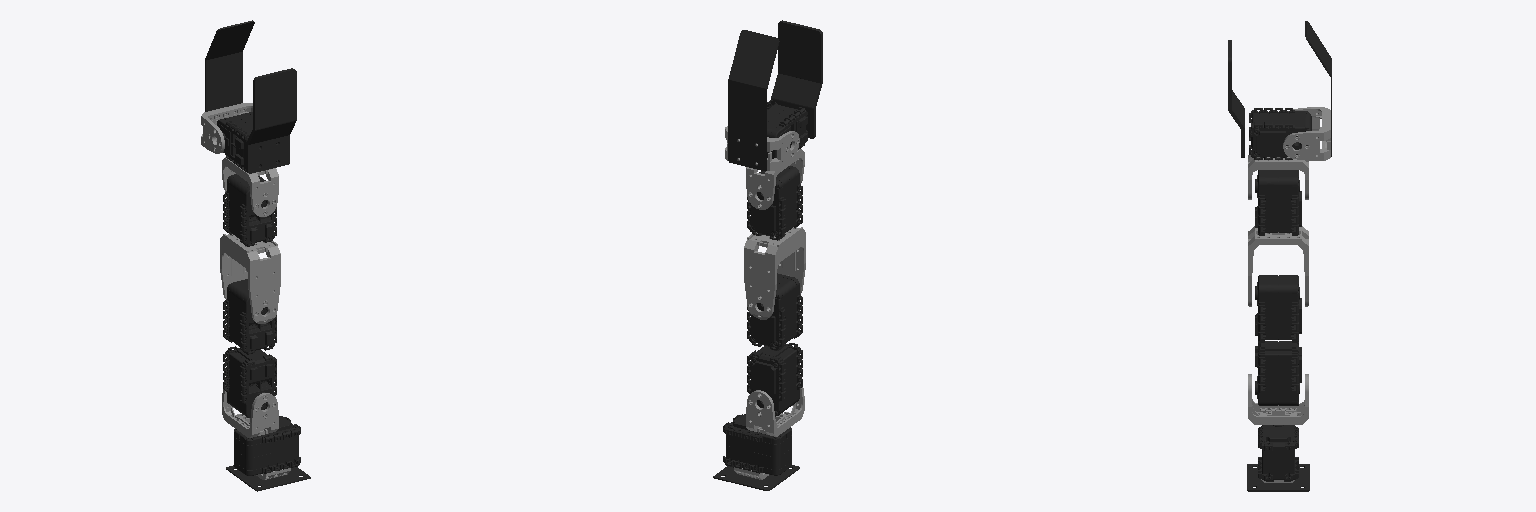
robot.urdf — crane_plus_arm:
<?xml version="1.0" ?>
<!-- =================================================================================== -->
<!-- |    This document was autogenerated by xacro from src/crane_plus_arm/crane_plus_simulation/urdf/simulated_crane_plus.urdf.xacro | -->
<!-- |    EDITING THIS FILE BY HAND IS NOT RECOMMENDED                                 | -->
<!-- =================================================================================== -->
<robot name="crane_plus_arm" xmlns:controller="http://playerstage.sourceforge.net/gazebo/xmlschema/#controller" xmlns:interface="http://playerstage.sourceforge.net/gazebo/xmlschema/#interface" xmlns:sensor="http://playerstage.sourceforge.net/gazebo/xmlschema/#sensor" xmlns:xacro="http://ros.org/wiki/xacro">
  <material name="grey">
    <color rgba="0.6 0.6 0.6 1.0"/>
  </material>
  <material name="black">
    <color rgba="0.2 0.2 0.2 1.0"/>
  </material>
  <!-- Link to provide the location reference for the arm -->
  <link name="world"/>
  <link name="crane_plus_base_link"/>
  <joint name="crane_plus_base_joint" type="fixed">
    <origin xyz="0 0 0"/>
    <parent link="world"/>
    <child link="crane_plus_base_link"/>
  </joint>
  <joint name="crane_plus_mounting_plate_joint" type="fixed">
    <origin rpy="0 0 0" xyz="0 0 0"/>
    <parent link="crane_plus_base_link"/>
    <child link="crane_plus_mounting_plate_link"/>
  </joint>
  <link name="crane_plus_mounting_plate_link">
    <inertial>
      <mass value="0.02"/>
      <origin rpy="0 0 0" xyz="0 0 0.0005"/>
      <inertia ixx="4.1683e-6" ixy="0.0" ixz="0.0" iyy="8.33e-6" iyz="0.0" izz="4.1683e-6"/>
    </inertial>
    <visual>
      <origin rpy="0 0 0" xyz="-0.025 -0.025 0"/>
      <geometry>
        <mesh filename="package://crane_plus_description/meshes/mount.stl" scale="1 1 1"/>
      </geometry>
      <material name="black"/>
    </visual>
    <collision>
      <origin rpy="0 0 0" xyz="0 0 0.0005"/>
      <geometry>
        <box size="0.05 0.05 0.001"/>
      </geometry>
    </collision>
  </link>
  <joint name="crane_plus_base_bracket_joint" type="fixed">
    <origin rpy="0 0 0" xyz="0 0 0.001"/>
    <parent link="crane_plus_mounting_plate_link"/>
    <child link="crane_plus_base_bracket_link"/>
  </joint>
  <link name="crane_plus_base_bracket_link">
    <inertial>
      <mass value="0.005"/>
      <origin rpy="0 0 0" xyz="0.0 0.0 0.004"/>
      <inertia ixx="4.53e-7" ixy="0.0" ixz="0.0" iyy="6.283e-7" iyz="0.0" izz="2.283e-7"/>
    </inertial>
    <visual>
      <origin rpy="-1.570795 0 0" xyz="0 0 0"/>
      <geometry>
        <mesh filename="package://crane_plus_description/meshes/f53.stl" scale="0.01 0.01 0.01"/>
      </geometry>
      <material name="grey"/>
    </visual>
    <collision>
      <origin rpy="0 0 0" xyz="0.0 0.0 0.004"/>
      <geometry>
        <box size="0.022 0.032 0.008"/>
      </geometry>
    </collision>
  </link>
  <joint name="crane_plus_shoulder_servo_joint" type="fixed">
    <origin rpy="0 0 0" xyz="-0.0028 0 0.023"/>
    <parent link="crane_plus_base_bracket_link"/>
    <child link="crane_plus_shoulder_servo_link"/>
  </joint>
  <link name="crane_plus_shoulder_servo_link">
    <inertial>
      <mass value="0.0564"/>
      <origin rpy="0 0 0" xyz="0.0015 0 0"/>
      <inertia ixx="1.16e-5" ixy="0.0" ixz="0.0" iyy="1.656e-50" iyz="0.0" izz="1.854e-5"/>
    </inertial>
    <visual>
      <origin rpy="-1.570795 0 0" xyz="0 0 0"/>
      <geometry>
        <mesh filename="package://crane_plus_description/meshes/ax12_box.stl" scale="0.001 0.001 0.001"/>
      </geometry>
      <material name="black"/>
    </visual>
    <collision>
      <origin rpy="0 0 0" xyz="0.0015 0 0"/>
      <geometry>
        <box size="0.05 0.032 0.038"/>
      </geometry>
    </collision>
  </link>
  <joint name="crane_plus_shoulder_bracket_rev_joint" type="revolute">
    <origin rpy="0 0 0" xyz="-0.0135 0 0.021"/>
    <axis xyz="0 0 1"/>
    <limit effort="30" lower="-2.617" upper="2.617" velocity="1.571"/>
    <parent link="crane_plus_shoulder_servo_link"/>
    <child link="crane_plus_shoulder_bracket_rev_link"/>
  </joint>
  <link name="crane_plus_shoulder_bracket_rev_link">
    <inertial>
      <mass value="0.01"/>
      <origin rpy="0 0 0" xyz="0 0 0.01875"/>
      <!-- Full height: (3.1320833333333333e-06, 2.481041666666667e-06, 1.6927083333333333e-06) -->
      <!-- Half height: (2.253177083333333e-06, 2.481041666666667e-06, 8.138020833333333e-07) -->
      <inertia ixx="2.253e-6" ixy="0.0" ixz="0.0" iyy="2.481e-6" iyz="0.0" izz="8.138e-7"/>
    </inertial>
    <visual>
      <origin rpy="1.570795 0 0" xyz="0 0 0.0265"/>
      <geometry>
        <mesh filename="package://crane_plus_description/meshes/f2.stl" scale="0.001 0.001 0.001"/>
      </geometry>
      <material name="grey"/>
    </visual>
    <collision>
      <origin rpy="0 0 0" xyz="0 0 0.01875"/>
      <geometry>
        <box size="0.025 0.0485 0.0375"/>
      </geometry>
    </collision>
  </link>
  <joint name="crane_plus_upper_arm_servo_joint" type="revolute">
    <origin rpy="-1.570795 -1.570795 0" xyz="0 0 0.0265"/>
    <axis xyz="0 0 1"/>
    <limit effort="30" lower="-2.617" upper="2.617" velocity="1.571"/>
    <parent link="crane_plus_shoulder_bracket_rev_link"/>
    <child link="crane_plus_upper_arm_servo_link"/>
  </joint>
  <link name="crane_plus_upper_arm_servo_link">
    <inertial>
      <mass value="0.0564"/>
      <origin rpy="0 0 0" xyz="0.0135 0 0"/>
      <inertia ixx="1.16e-5" ixy="0.0" ixz="0.0" iyy="1.656e-5" iyz="0.0" izz="1.854e-5"/>
    </inertial>
    <visual>
      <origin rpy="-1.570795 0 0" xyz="0.012 0 0"/>
      <geometry>
        <mesh filename="package://crane_plus_description/meshes/ax12_box.stl" scale="0.001 0.001 0.001"/>
      </geometry>
      <material name="black"/>
    </visual>
    <collision>
      <origin rpy="0 0 0" xyz="0.0135 0 0"/>
      <geometry>
        <box size="0.05 0.032 0.038"/>
      </geometry>
    </collision>
  </link>
  <joint name="crane_plus_upper_arm_upper_joiner_joint" type="fixed">
    <origin rpy="-1.570795 0 1.570795" xyz="0.0415 0 0"/>
    <parent link="crane_plus_upper_arm_servo_link"/>
    <child link="crane_plus_upper_arm_upper_joiner_link"/>
  </joint>
  <link name="crane_plus_upper_arm_upper_joiner_link">
    <inertial>
      <mass value="0.005"/>
      <origin rpy="0 0 0" xyz="0.0 0.0 0.0045"/>
      <inertia ixx="6.354e-7" ixy="0.0" ixz="0.0" iyy="8.621e-7" iyz="0.0" izz="2.942e-7"/>
    </inertial>
    <visual>
      <origin rpy="1.570795 0 3.14159" xyz="0 0 0"/>
      <geometry>
        <mesh filename="package://crane_plus_description/meshes/f3.stl" scale="0.001 0.001 0.001"/>
      </geometry>
      <material name="grey"/>
    </visual>
    <collision>
      <origin rpy="0 0 0" xyz="0.0 0.0 0.0045"/>
      <geometry>
        <box size="0.025 0.038 0.009"/>
      </geometry>
    </collision>
  </link>
  <joint name="crane_plus_upper_arm_lower_joiner_joint" type="fixed">
    <origin rpy="3.14159 0 0" xyz="0 0 0"/>
    <parent link="crane_plus_upper_arm_upper_joiner_link"/>
    <child link="crane_plus_upper_arm_lower_joiner_link"/>
  </joint>
  <link name="crane_plus_upper_arm_lower_joiner_link">
    <inertial>
      <mass value="0.005"/>
      <origin rpy="0 0 0" xyz="0.0 0.0 0.0045"/>
      <inertia ixx="6.354e-7" ixy="0.0" ixz="0.0" iyy="8.621e-7" iyz="0.0" izz="2.942e-7"/>
    </inertial>
    <visual>
      <origin rpy="1.570795 0 3.14159" xyz="0 0 0"/>
      <geometry>
        <mesh filename="package://crane_plus_description/meshes/f3.stl" scale="0.001 0.001 0.001"/>
      </geometry>
      <material name="grey"/>
    </visual>
    <collision>
      <origin rpy="0 0 0" xyz="0.0 0.0 0.0045"/>
      <geometry>
        <box size="0.025 0.038 0.009"/>
      </geometry>
    </collision>
  </link>
  <joint name="crane_plus_lower_arm_servo_joint" type="fixed">
    <origin rpy="0 1.570795 1.570795" xyz="0 0 0.0295"/>
    <parent link="crane_plus_upper_arm_lower_joiner_link"/>
    <child link="crane_plus_lower_arm_servo_link"/>
  </joint>
  <link name="crane_plus_lower_arm_servo_link">
    <inertial>
      <mass value="0.0564"/>
      <origin rpy="0 0 0" xyz="0.0015 0 0"/>
      <inertia ixx="1.16e-5" ixy="0.0" ixz="0.0" iyy="1.656e-50" iyz="0.0" izz="1.854e-5"/>
    </inertial>
    <visual>
      <origin rpy="-1.570795 0 0" xyz="0 0 0"/>
      <geometry>
        <mesh filename="package://crane_plus_description/meshes/ax12_box.stl" scale="0.001 0.001 0.001"/>
      </geometry>
      <material name="black"/>
    </visual>
    <collision>
      <origin rpy="0 0 0" xyz="0.0015 0 0"/>
      <geometry>
        <box size="0.05 0.032 0.038"/>
      </geometry>
    </collision>
  </link>
  <joint name="crane_plus_lower_arm_bracket_joint" type="revolute">
    <origin rpy="1.570795 0 1.570795" xyz="-0.012 0 0"/>
    <axis xyz="0 1 0"/>
    <limit effort="30" lower="-2.617" upper="2.617" velocity="1.571"/>
    <parent link="crane_plus_lower_arm_servo_link"/>
    <child link="crane_plus_lower_arm_bracket_link"/>
  </joint>
  <link name="crane_plus_lower_arm_bracket_link">
    <inertial>
      <mass value="0.015"/>
      <origin rpy="0 0 0" xyz="0 0 -0.0215"/>
      <!-- Full height: (8.2215625e-06, 3.9203124999999996e-06, 6.2612499999999996e-06) -->
      <!-- Half height: (4.2606249999999995e-06, 3.9203124999999996e-06, 2.3003125e-06) -->
      <inertia ixx="4.261e-6" ixy="0.0" ixz="0.0" iyy="3.921e-6" iyz="0.0" izz="2.3e-6"/>
    </inertial>
    <visual>
      <origin rpy="1.570795 0 0" xyz="0 0 0"/>
      <geometry>
        <mesh filename="package://crane_plus_description/meshes/f4.stl" scale="0.001 0.001 0.001"/>
      </geometry>
      <material name="grey"/>
    </visual>
    <collision>
      <!-- 0.0015 is for the nub height which is not included in
             F4_AXLE_HEIGHT -->
      <origin rpy="0 0 0" xyz="0 0 -0.0215"/>
      <geometry>
        <box size="0.028 0.0485 0.065"/>
      </geometry>
    </collision>
  </link>
  <joint name="crane_plus_lower_arm_joiner_joint" type="fixed">
    <origin rpy="0 3.14159 0" xyz="0 0 -0.0525"/>
    <parent link="crane_plus_lower_arm_bracket_link"/>
    <child link="crane_plus_lower_arm_joiner_link"/>
  </joint>
  <link name="crane_plus_lower_arm_joiner_link">
    <inertial>
      <mass value="0.005"/>
      <origin rpy="0 0 0" xyz="0.0 0.0 0.0045"/>
      <inertia ixx="6.354e-7" ixy="0.0" ixz="0.0" iyy="8.621e-7" iyz="0.0" izz="2.942e-7"/>
    </inertial>
    <visual>
      <origin rpy="1.570795 0 3.14159" xyz="0 0 0"/>
      <geometry>
        <mesh filename="package://crane_plus_description/meshes/f3.stl" scale="0.001 0.001 0.001"/>
      </geometry>
      <material name="grey"/>
    </visual>
    <collision>
      <origin rpy="0 0 0" xyz="0.0 0.0 0.0045"/>
      <geometry>
        <box size="0.025 0.038 0.009"/>
      </geometry>
    </collision>
  </link>
  <joint name="crane_plus_wrist_servo_joint" type="fixed">
    <origin rpy="0 1.570795 1.570795" xyz="0 0 0.0295"/>
    <parent link="crane_plus_lower_arm_joiner_link"/>
    <child link="crane_plus_wrist_servo_link"/>
  </joint>
  <link name="crane_plus_wrist_servo_link">
    <inertial>
      <mass value="0.0564"/>
      <origin rpy="0 0 0" xyz="0.0015 0 0"/>
      <inertia ixx="1.16e-5" ixy="0.0" ixz="0.0" iyy="1.656e-50" iyz="0.0" izz="1.854e-5"/>
    </inertial>
    <visual>
      <origin rpy="-1.570795 0 0" xyz="0 0 0"/>
      <geometry>
        <mesh filename="package://crane_plus_description/meshes/ax12_box.stl" scale="0.001 0.001 0.001"/>
      </geometry>
      <material name="black"/>
    </visual>
    <collision>
      <origin rpy="0 0 0" xyz="0.0015 0 0"/>
      <geometry>
        <box size="0.05 0.032 0.038"/>
      </geometry>
    </collision>
  </link>
  <joint name="crane_plus_wrist_bracket_joint" type="revolute">
    <origin rpy="-1.570795 0 -1.570795" xyz="-0.012 0 0"/>
    <axis xyz="0 1 0"/>
    <limit effort="30" lower="-2.617" upper="2.617" velocity="1.571"/>
    <parent link="crane_plus_wrist_servo_link"/>
    <child link="crane_plus_wrist_bracket_link"/>
  </joint>
  <link name="crane_plus_wrist_bracket_link">
    <inertial>
      <mass value="0.01"/>
      <origin rpy="0 0 0" xyz="0 0 -0.00775"/>
      <!-- Full height: (3.1320833333333333e-06, 2.481041666666667e-06, 1.6927083333333333e-06) -->
      <!-- Half height: (2.253177083333333e-06, 2.481041666666667e-06, 8.138020833333333e-07) -->
      <inertia ixx="2.253e-6" ixy="0.0" ixz="0.0" iyy="2.481e-6" iyz="0.0" izz="8.138e-7"/>
    </inertial>
    <visual>
      <origin rpy="1.570795 0 0" xyz="0 0 0"/>
      <geometry>
        <mesh filename="package://crane_plus_description/meshes/f2.stl" scale="0.001 0.001 0.001"/>
      </geometry>
      <material name="grey"/>
    </visual>
    <collision>
      <origin rpy="0 0 0" xyz="0 0 -0.00775"/>
      <geometry>
        <box size="0.025 0.0485 0.0375"/>
      </geometry>
    </collision>
  </link>
  <joint name="crane_plus_wrist_joiner_joint" type="fixed">
    <origin rpy="0 3.14159 1.570795" xyz="0 0 -0.0265"/>
    <parent link="crane_plus_wrist_bracket_link"/>
    <child link="crane_plus_wrist_joiner_link"/>
  </joint>
  <link name="crane_plus_wrist_joiner_link">
    <inertial>
      <mass value="0.005"/>
      <origin rpy="0 0 0" xyz="0.0 0.0 0.0045"/>
      <inertia ixx="6.354e-7" ixy="0.0" ixz="0.0" iyy="8.621e-7" iyz="0.0" izz="2.942e-7"/>
    </inertial>
    <visual>
      <origin rpy="1.570795 0 3.14159" xyz="0 0 0"/>
      <geometry>
        <mesh filename="package://crane_plus_description/meshes/f3.stl" scale="0.001 0.001 0.001"/>
      </geometry>
      <material name="grey"/>
    </visual>
    <collision>
      <origin rpy="0 0 0" xyz="0.0 0.0 0.0045"/>
      <geometry>
        <box size="0.025 0.038 0.009"/>
      </geometry>
    </collision>
  </link>
  <joint name="crane_plus_gripper_servo_joint" type="fixed">
    <origin rpy="1.570795 3.14159 0" xyz="0.0028 0 0.019"/>
    <parent link="crane_plus_wrist_joiner_link"/>
    <child link="crane_plus_gripper_servo_link"/>
  </joint>
  <link name="crane_plus_gripper_servo_link">
    <inertial>
      <mass value="0.0564"/>
      <origin rpy="0 0 0" xyz="0.0015 0 0"/>
      <inertia ixx="1.16e-5" ixy="0.0" ixz="0.0" iyy="1.656e-50" iyz="0.0" izz="1.854e-5"/>
    </inertial>
    <visual>
      <origin rpy="-1.570795 0 0" xyz="0 0 0"/>
      <geometry>
        <mesh filename="package://crane_plus_description/meshes/ax12_box.stl" scale="0.001 0.001 0.001"/>
      </geometry>
      <material name="black"/>
    </visual>
    <collision>
      <origin rpy="0 0 0" xyz="0.0015 0 0"/>
      <geometry>
        <box size="0.05 0.032 0.038"/>
      </geometry>
    </collision>
  </link>
  <joint name="crane_plus_fixed_finger_joiner_joint" type="fixed">
    <origin rpy="-1.570795 0 1.570795" xyz="0.0295 0 0"/>
    <parent link="crane_plus_gripper_servo_link"/>
    <child link="crane_plus_fixed_finger_joiner_link"/>
  </joint>
  <link name="crane_plus_fixed_finger_joiner_link">
    <inertial>
      <mass value="0.005"/>
      <origin rpy="0 0 0" xyz="0.0 0.0 0.0045"/>
      <inertia ixx="6.354e-7" ixy="0.0" ixz="0.0" iyy="8.621e-7" iyz="0.0" izz="2.942e-7"/>
    </inertial>
    <visual>
      <origin rpy="1.570795 0 3.14159" xyz="0 0 0"/>
      <geometry>
        <mesh filename="package://crane_plus_description/meshes/f3.stl" scale="0.001 0.001 0.001"/>
      </geometry>
      <material name="grey"/>
    </visual>
    <collision>
      <origin rpy="0 0 0" xyz="0.0 0.0 0.0045"/>
      <geometry>
        <box size="0.025 0.038 0.009"/>
      </geometry>
    </collision>
  </link>
  <joint name="crane_plus_fixed_finger_joint" type="fixed">
    <origin rpy="0 0 3.14159" xyz="0 0 0"/>
    <parent link="crane_plus_fixed_finger_joiner_link"/>
    <child link="crane_plus_fixed_finger_link"/>
  </joint>
  <link name="crane_plus_fixed_finger_link">
    <inertial>
      <mass value="0.02"/>
      <origin rpy="0 0 0" xyz="0 0 0"/>
      <inertia ixx="1.612e-5" ixy="0.0" ixz="0.0" iyy="1.823e-5" iyz="0.0" izz="2.732e-6"/>
    </inertial>
    <visual>
      <origin rpy="0 0 0" xyz="0 0 0"/>
      <geometry>
        <mesh filename="package://crane_plus_description/meshes/finger_fixed.stl" scale="0.001 0.001 0.001"/>
      </geometry>
      <material name="black"/>
    </visual>
    <collision>
      <origin rpy="0 0 0" xyz="0 0 0"/>
      <geometry>
        <mesh filename="package://crane_plus_description/meshes/finger_fixed_collision.stl" scale="0.001 0.001 0.001"/>
      </geometry>
    </collision>
  </link>
  <joint name="crane_plus_moving_finger_bracket_joint" type="revolute">
    <origin rpy="-1.570795 0 -1.570795" xyz="-0.012 0 0"/>
    <axis xyz="0 1 0"/>
    <limit effort="30" lower="-2.617" upper="2.617" velocity="1.571"/>
    <parent link="crane_plus_gripper_servo_link"/>
    <child link="crane_plus_moving_finger_bracket_link"/>
  </joint>
  <link name="crane_plus_moving_finger_bracket_link">
    <inertial>
      <mass value="0.01"/>
      <origin rpy="0 0 0" xyz="0 0 -0.00775"/>
      <!-- Full height: (3.1320833333333333e-06, 2.481041666666667e-06, 1.6927083333333333e-06) -->
      <!-- Half height: (2.253177083333333e-06, 2.481041666666667e-06, 8.138020833333333e-07) -->
      <inertia ixx="2.253e-6" ixy="0.0" ixz="0.0" iyy="2.481e-6" iyz="0.0" izz="8.138e-7"/>
    </inertial>
    <visual>
      <origin rpy="1.570795 0 0" xyz="0 0 0"/>
      <geometry>
        <mesh filename="package://crane_plus_description/meshes/f2.stl" scale="0.001 0.001 0.001"/>
      </geometry>
      <material name="grey"/>
    </visual>
    <collision>
      <origin rpy="0 0 0" xyz="0 0 -0.00775"/>
      <geometry>
        <box size="0.025 0.0485 0.0375"/>
      </geometry>
    </collision>
  </link>
  <joint name="crane_plus_moving_finger_joint" type="fixed">
    <origin rpy="3.14159 0 0" xyz="0 0 -0.0265"/>
    <parent link="crane_plus_moving_finger_bracket_link"/>
    <child link="crane_plus_moving_finger_link"/>
  </joint>
  <link name="crane_plus_moving_finger_link">
    <inertial>
      <mass value="0.02"/>
      <origin rpy="0 0 0" xyz="0 0 0"/>
      <inertia ixx="2.01e-5" ixy="0.0" ixz="0.0" iyy="2.2e-5" iyz="0.0" izz="2.936e-6"/>
    </inertial>
    <visual>
      <origin rpy="0 0 0" xyz="0 0 0"/>
      <geometry>
        <mesh filename="package://crane_plus_description/meshes/finger_moving.stl" scale="0.001 0.001 0.001"/>
      </geometry>
      <material name="black"/>
    </visual>
    <collision>
      <origin rpy="0 0 0" xyz="0 0 0"/>
      <geometry>
        <mesh filename="package://crane_plus_description/meshes/finger_moving_collision.stl" scale="0.001 0.001 0.001"/>
      </geometry>
    </collision>
  </link>
  <!-- Add the transmissions necessary to move the simulated robot's joints -->
  <!-- Shoulder servo -->
  <transmission name="shoulder">
    <type>transmission_interface/SimpleTransmission</type>
    <joint name="crane_plus_shoulder_bracket_rev_joint">
      <hardwareInterface>PositionJointInterface</hardwareInterface>
    </joint>
    <actuator name="shoulder_servo">
      <hardwareInterface>PositionJointInterface</hardwareInterface>
      <mechanicalReduction>1</mechanicalReduction>
    </actuator>
  </transmission>
  <!-- Upper arm servo -->
  <transmission name="upper_arm">
    <type>transmission_interface/SimpleTransmission</type>
    <joint name="crane_plus_upper_arm_servo_joint">
      <hardwareInterface>PositionJointInterface</hardwareInterface>
    </joint>
    <actuator name="upper_arm_servo">
      <hardwareInterface>PositionJointInterface</hardwareInterface>
      <mechanicalReduction>1</mechanicalReduction>
    </actuator>
  </transmission>
  <!-- Lower arm servo -->
  <transmission name="lower_arm">
    <type>transmission_interface/SimpleTransmission</type>
    <joint name="crane_plus_lower_arm_bracket_joint">
      <hardwareInterface>PositionJointInterface</hardwareInterface>
    </joint>
    <actuator name="lower_arm_servo">
      <hardwareInterface>PositionJointInterface</hardwareInterface>
      <mechanicalReduction>1</mechanicalReduction>
    </actuator>
  </transmission>
  <!-- Wrist servo -->
  <transmission name="wrist">
    <type>transmission_interface/SimpleTransmission</type>
    <joint name="crane_plus_wrist_bracket_joint">
      <hardwareInterface>PositionJointInterface</hardwareInterface>
    </joint>
    <actuator name="wrist_servo">
      <hardwareInterface>PositionJointInterface</hardwareInterface>
      <mechanicalReduction>1</mechanicalReduction>
    </actuator>
  </transmission>
  <!-- Gripper servo -->
  <transmission name="gripper">
    <type>transmission_interface/SimpleTransmission</type>
    <joint name="crane_plus_moving_finger_bracket_joint">
      <hardwareInterface>PositionJointInterface</hardwareInterface>
    </joint>
    <actuator name="gripper_servo">
      <hardwareInterface>PositionJointInterface</hardwareInterface>
      <mechanicalReduction>1</mechanicalReduction>
    </actuator>
  </transmission>
  <gazebo>
    <plugin filename="libgazebo_ros_control.so" name="control"/>
    <plugin filename="libgazebo_ros_joint_state_publisher.so" name="joint_state_publisher">
      <jointName>
        crane_plus_shoulder_bracket_rev_joint,
        crane_plus_upper_arm_servo_joint,
        crane_plus_lower_arm_bracket_joint,
        crane_plus_wrist_bracket_joint,
        crane_plus_moving_finger_bracket_joint
      </jointName>
    </plugin>
  </gazebo>
</robot>

--- Render facts (derived) ---
3 views of the same robot in one strip: view 1: azimuth 30°, elevation 25°; view 2: azimuth 150°, elevation 25°; view 3: azimuth 270°, elevation 25° (orthographic).
Robot: crane_plus_arm — 20 links, 19 joints (5 revolute, 14 fixed); root link world; default pose: every joint at zero.
Links seen in each view (by area): view 1: crane_plus_fixed_finger_link, crane_plus_lower_arm_bracket_link, crane_plus_moving_finger_link, crane_plus_upper_arm_servo_link, crane_plus_shoulder_servo_link, crane_plus_lower_arm_servo_link, crane_plus_wrist_servo_link, crane_plus_shoulder_bracket_rev_link, crane_plus_wrist_bracket_link, crane_plus_gripper_servo_link, crane_plus_moving_finger_bracket_link, crane_plus_mounting_plate_link; view 2: crane_plus_moving_finger_link, crane_plus_fixed_finger_link, crane_plus_lower_arm_bracket_link, crane_plus_upper_arm_servo_link, crane_plus_shoulder_servo_link, crane_plus_lower_arm_servo_link, crane_plus_wrist_servo_link, crane_plus_shoulder_bracket_rev_link, crane_plus_gripper_servo_link, crane_plus_wrist_bracket_link, crane_plus_moving_finger_bracket_link, crane_plus_mounting_plate_link; view 3: crane_plus_lower_arm_servo_link, crane_plus_upper_arm_servo_link, crane_plus_wrist_servo_link, crane_plus_gripper_servo_link, crane_plus_shoulder_servo_link, crane_plus_moving_finger_bracket_link, crane_plus_shoulder_bracket_rev_link, crane_plus_lower_arm_bracket_link, crane_plus_mounting_plate_link, crane_plus_wrist_bracket_link, crane_plus_fixed_finger_link, crane_plus_moving_finger_link.
Boxes of the visible links, <box> form: crane_plus_fixed_finger_link: <box>246,68,296,173</box>; crane_plus_lower_arm_bracket_link: <box>220,234,280,323</box>; crane_plus_moving_finger_link: <box>205,20,254,111</box>; crane_plus_upper_arm_servo_link: <box>223,346,276,417</box>; crane_plus_shoulder_servo_link: <box>234,416,300,475</box>; crane_plus_lower_arm_servo_link: <box>223,279,276,354</box>; crane_plus_wrist_servo_link: <box>223,174,276,246</box>; crane_plus_shoulder_bracket_rev_link: <box>222,385,278,437</box>; crane_plus_wrist_bracket_link: <box>222,157,278,216</box>; crane_plus_gripper_servo_link: <box>217,112,277,171</box>; crane_plus_moving_finger_bracket_link: <box>201,103,252,153</box>; crane_plus_mounting_plate_link: <box>226,465,310,491</box>; crane_plus_moving_finger_link: <box>728,30,779,170</box>; crane_plus_fixed_finger_link: <box>771,20,822,138</box>; crane_plus_lower_arm_bracket_link: <box>744,227,805,319</box>; crane_plus_upper_arm_servo_link: <box>747,343,802,416</box>; crane_plus_shoulder_servo_link: <box>723,414,791,475</box>; crane_plus_lower_arm_servo_link: <box>747,273,802,350</box>; crane_plus_wrist_servo_link: <box>747,166,802,240</box>; crane_plus_shoulder_bracket_rev_link: <box>746,382,804,436</box>; crane_plus_gripper_servo_link: <box>767,100,807,158</box>; crane_plus_wrist_bracket_link: <box>746,149,804,209</box>; crane_plus_moving_finger_bracket_link: <box>725,126,799,170</box>; crane_plus_mounting_plate_link: <box>713,465,799,490</box>; crane_plus_lower_arm_servo_link: <box>1255,275,1301,342</box>; crane_plus_upper_arm_servo_link: <box>1255,341,1301,405</box>; crane_plus_wrist_servo_link: <box>1255,170,1301,235</box>; crane_plus_gripper_servo_link: <box>1249,108,1311,159</box>; crane_plus_shoulder_servo_link: <box>1258,425,1298,481</box>; crane_plus_moving_finger_bracket_link: <box>1283,107,1330,160</box>; crane_plus_shoulder_bracket_rev_link: <box>1248,374,1308,424</box>; crane_plus_lower_arm_bracket_link: <box>1248,226,1308,306</box>; crane_plus_mounting_plate_link: <box>1247,464,1309,491</box>; crane_plus_wrist_bracket_link: <box>1248,155,1308,199</box>; crane_plus_fixed_finger_link: <box>1228,40,1244,157</box>; crane_plus_moving_finger_link: <box>1305,21,1331,156</box>.
Bounding box of the posed robot: 0.0655 × 0.0831 × 0.3867 m (x, y, z).
Meshes: 8 distinct files referenced, 13 mesh visuals loaded (7 binary STL); not drawn: 5 (reference not matched to a file when rendering).